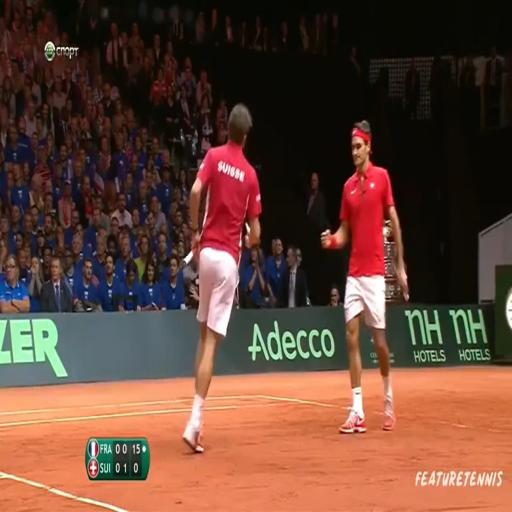nao-violencia: (176, 90, 414, 458)
